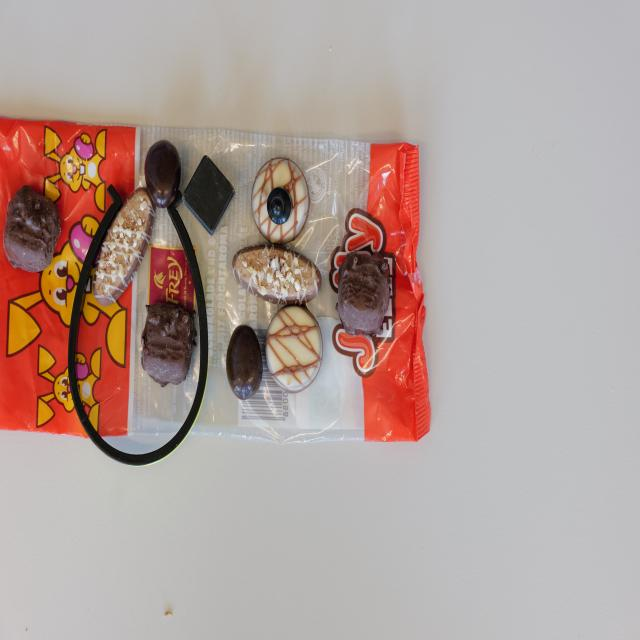Amandina: (93, 185, 160, 306), (231, 243, 323, 306)
Creme_brulee: (252, 156, 311, 245), (266, 303, 323, 392)
Jelly_Black: (227, 324, 263, 399), (145, 139, 182, 208)
Tentation_noir: (4, 185, 62, 272), (338, 251, 392, 335), (142, 301, 196, 383)
